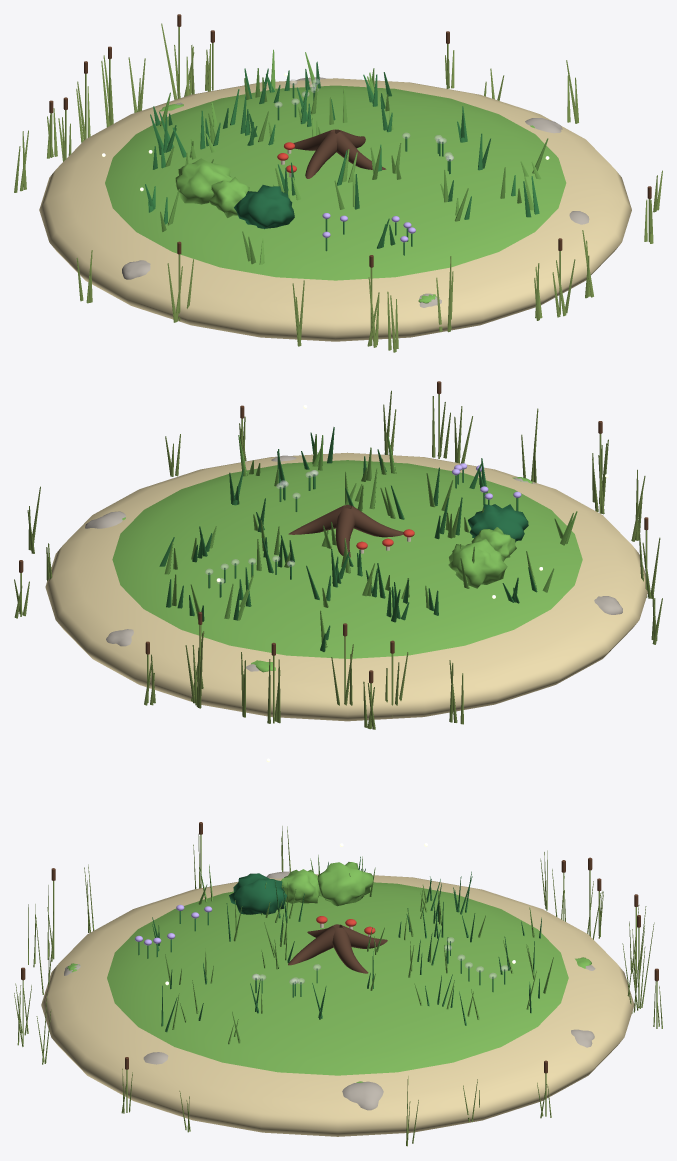
The model's file is islet_15.glb.
The picture shows the model from 3 angles, top to bottom: view 1: azimuth 30°, elevation 25°; view 2: azimuth 150°, elevation 25°; view 3: azimuth 270°, elevation 25°; orthographic projection.
Parts seen in each view (by area): view 1: islet_grass.015, islet_sand.015, bush.047, bush.045, bush.046, root.062, root.063; view 2: islet_grass.015, islet_sand.015, bush.045, bush.047, root.062, bush.046, root.061, root.060; view 3: islet_grass.015, islet_sand.015, bush.045, bush.047, bush.046, rock.091, root.060, root.063.
Part boxes in pixels (x1,y1,x2,y2): islet_grass.015: (105, 85, 566, 280); islet_sand.015: (39, 78, 631, 341); bush.047: (234, 185, 294, 229); bush.045: (175, 158, 232, 204); bush.046: (209, 177, 249, 217); root.062: (305, 132, 337, 178); root.063: (335, 131, 386, 169); islet_grass.015: (112, 460, 582, 658); islet_sand.015: (45, 452, 647, 721); bush.045: (448, 539, 507, 588); bush.047: (468, 504, 528, 542); root.062: (350, 506, 403, 537); bush.046: (471, 527, 516, 558); root.061: (335, 508, 355, 557); root.060: (288, 505, 344, 534); islet_grass.015: (107, 882, 568, 1075); islet_sand.015: (41, 874, 634, 1136); bush.045: (317, 862, 373, 906); bush.047: (229, 873, 286, 914); bush.046: (281, 869, 320, 903); rock.091: (342, 1081, 383, 1110); root.060: (332, 927, 368, 973); root.063: (288, 926, 336, 965).
Bounding box in the file's own units: 10.29 × 3.18 × 10.28.
